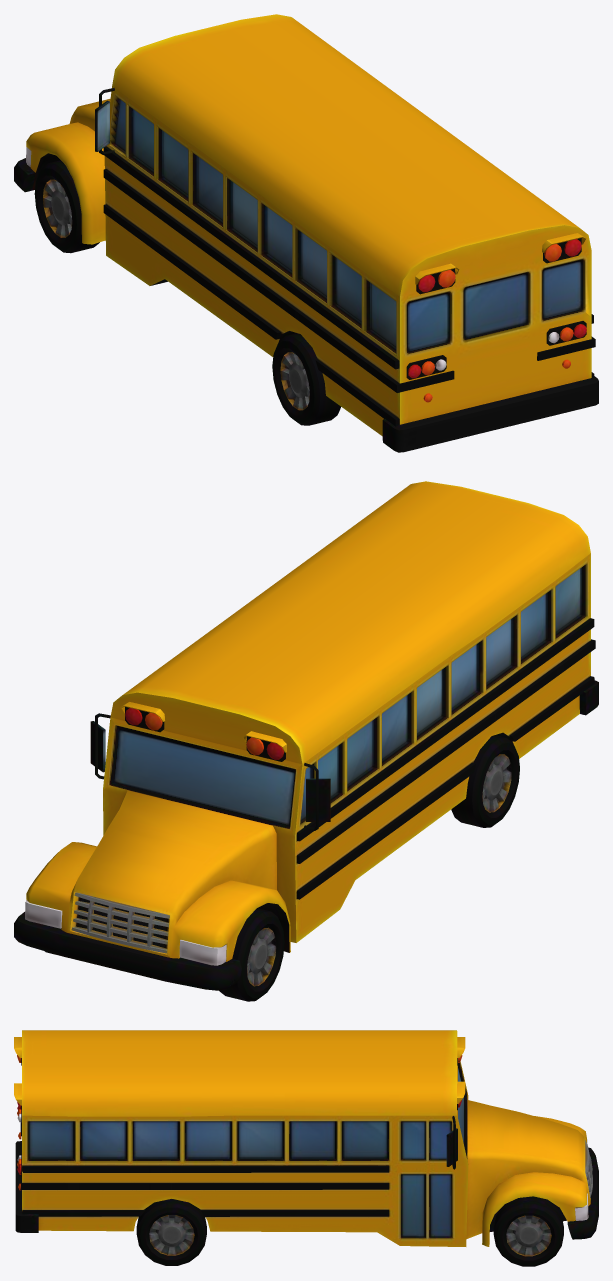
File: school_bus.glb
The picture shows the model from 3 angles, top to bottom: view 1: azimuth 30°, elevation 25°; view 2: azimuth 150°, elevation 25°; view 3: azimuth 270°, elevation 25°; orthographic projection. The views are drawn at different scales.
Parts seen in each view (by area): view 1: school_bus_body; view 2: school_bus_body; view 3: school_bus_body.
Part boxes in pixels (bbox=[...]): school_bus_body: bbox=[14, 14, 598, 452]; school_bus_body: bbox=[14, 481, 598, 1001]; school_bus_body: bbox=[14, 1030, 598, 1266].
Bounding box in the file's own units: 3.92 × 3.64 × 11.
Materials: 1 (1 with a texture image).
